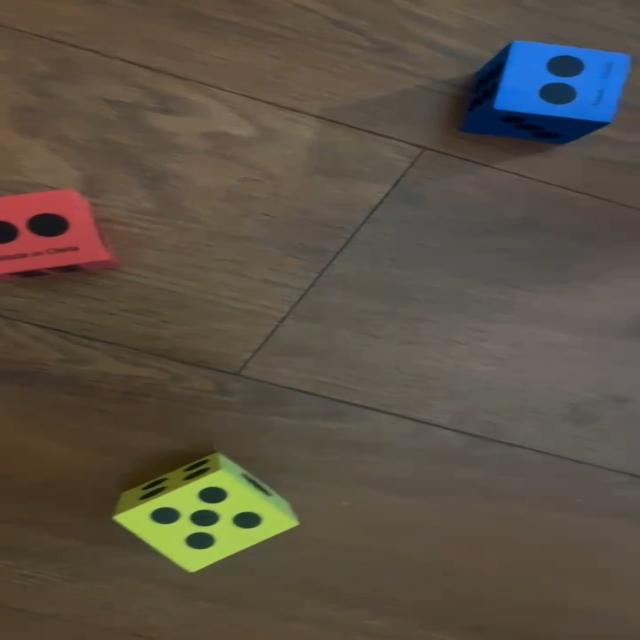blue_block: (463, 40, 629, 144)
red_block: (0, 190, 116, 285)
